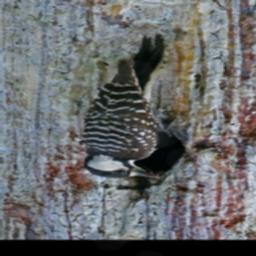Woodpecker: (74, 34, 170, 182)
